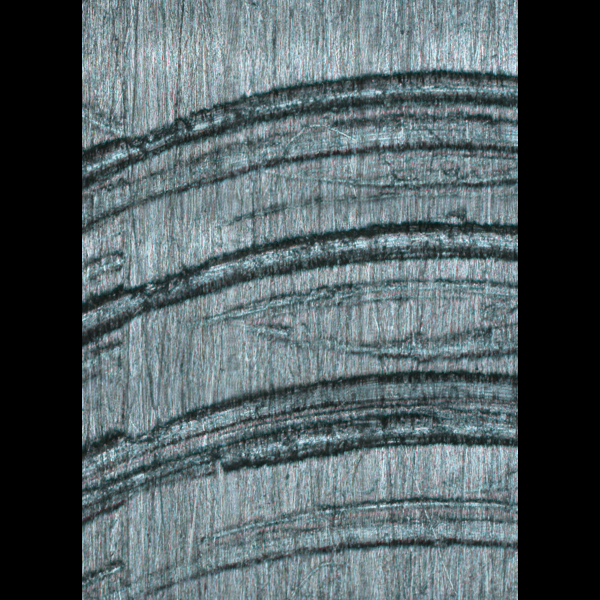d: (82, 66, 517, 579)
